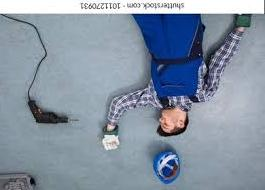fall: (97, 15, 252, 154)
